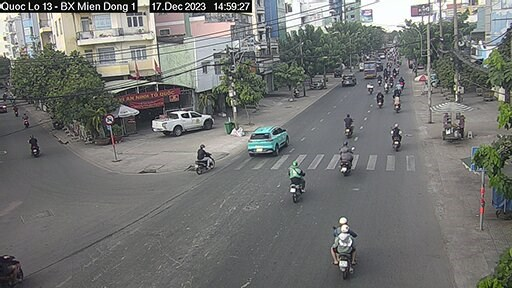car: (150, 104, 207, 147), (246, 117, 294, 166)
motorbike: (283, 157, 321, 212), (329, 216, 362, 275), (187, 143, 209, 176), (337, 136, 354, 171), (383, 122, 401, 153), (336, 113, 350, 138)
